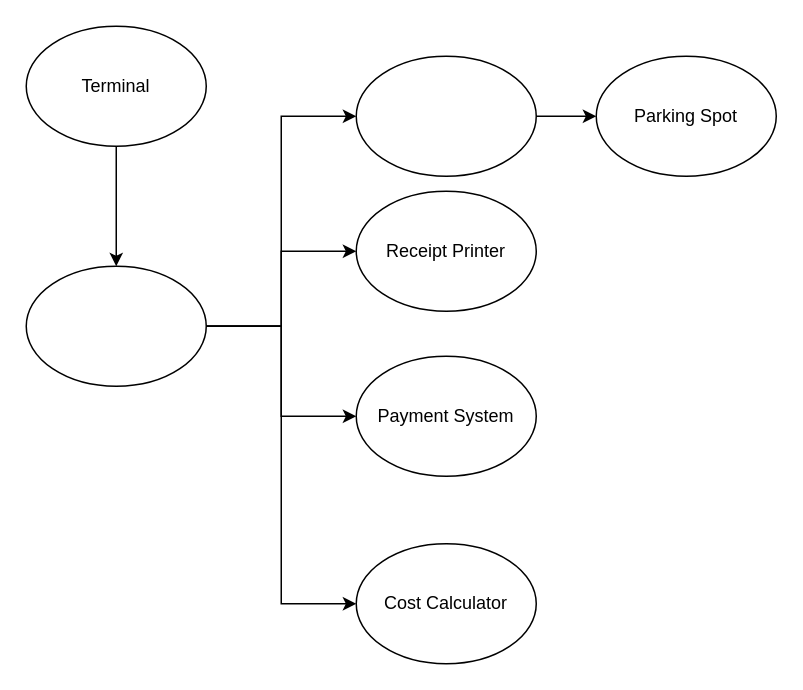
This 803x690 diagram has some shape labels left out. The centre of each missing label's shape, as x and y in pixels:
Counter: point 115,325
Spot Assignment Strategy: point 445,115
